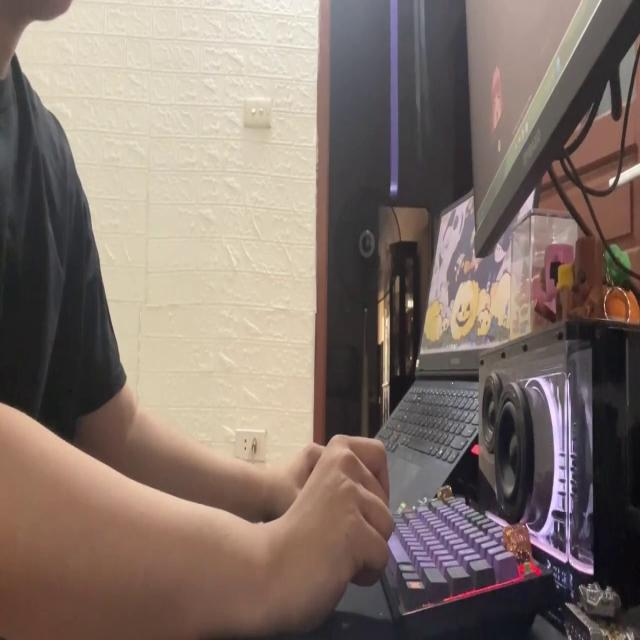laptop: (356, 167, 544, 510), (461, 5, 640, 255)
student: (0, 0, 398, 640)
